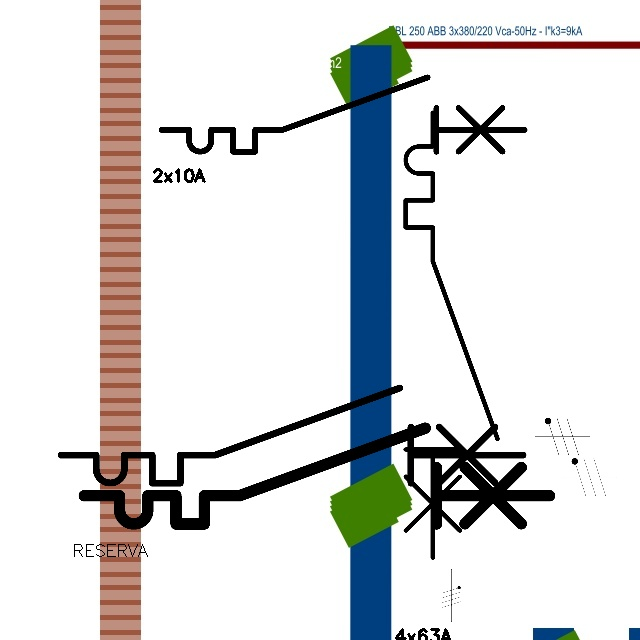interruptor_termomagnetico: (72, 416, 561, 536), (49, 376, 535, 495), (394, 101, 508, 569), (152, 68, 534, 161)
